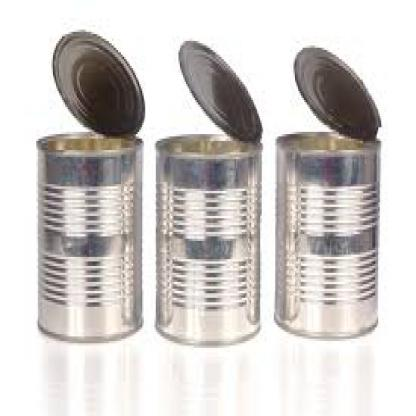Compsot: (35, 134, 142, 341), (154, 134, 259, 341), (274, 132, 376, 336), (50, 27, 145, 136), (177, 39, 262, 141), (294, 45, 379, 138)
